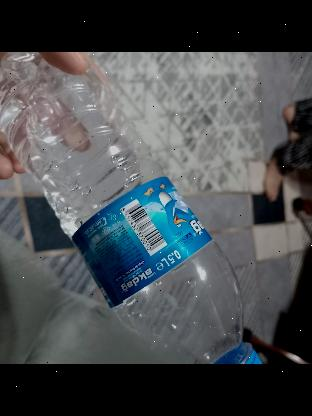Plastic Bottle: (0, 52, 265, 364)
